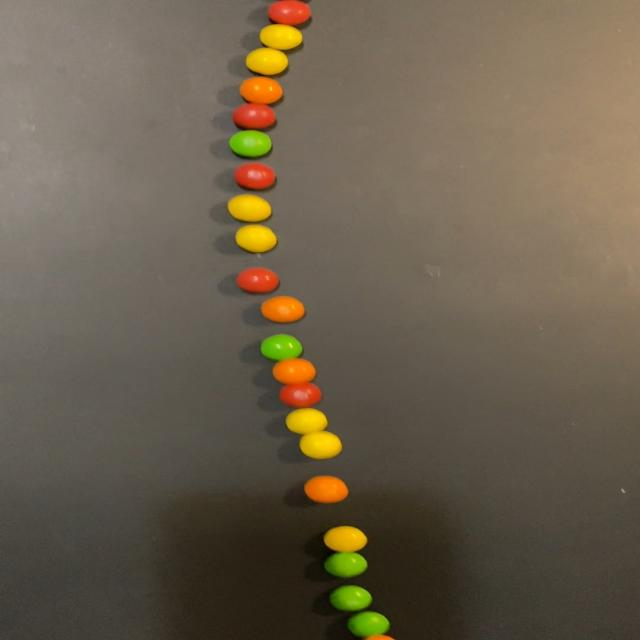smartie: (303, 477, 348, 504), (239, 76, 282, 104), (228, 129, 271, 157), (260, 296, 304, 323), (245, 46, 287, 74), (228, 194, 270, 222), (285, 408, 327, 436), (299, 432, 341, 460), (272, 358, 315, 385), (235, 224, 276, 252), (233, 162, 275, 189), (260, 334, 302, 361), (259, 23, 302, 49), (231, 102, 274, 128), (324, 527, 367, 553), (324, 553, 367, 579), (329, 586, 372, 612), (347, 613, 389, 639), (236, 267, 277, 293), (267, 0, 310, 24), (280, 383, 321, 408)
